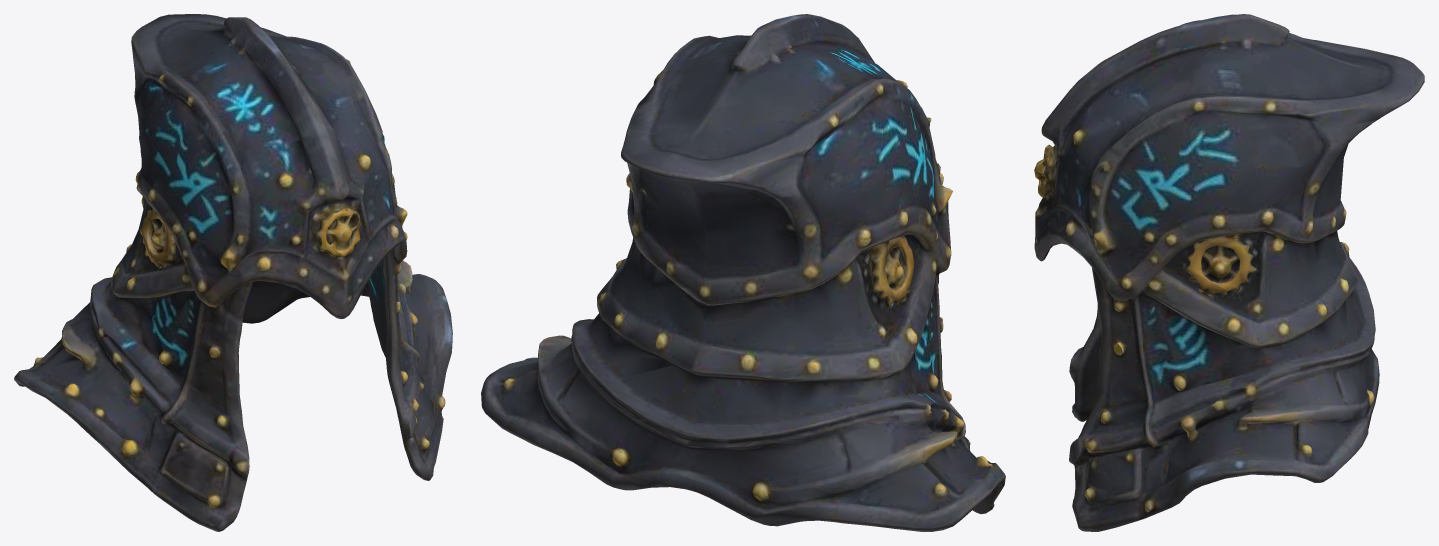
Rendered from artifice-elmo.glb.
3 renders of one model, left to right at view 1: azimuth 30°, elevation 25°; view 2: azimuth 150°, elevation 25°; view 3: azimuth 270°, elevation 25°, orthographic. The views are drawn at different scales.
Parts seen in each view (by area): view 1: tripo_node_33bcd201-bd58-4ee7-9f5b-8f406ac6eeaf; view 2: tripo_node_33bcd201-bd58-4ee7-9f5b-8f406ac6eeaf; view 3: tripo_node_33bcd201-bd58-4ee7-9f5b-8f406ac6eeaf.
Part boxes in pixels (bbox=[...]): tripo_node_33bcd201-bd58-4ee7-9f5b-8f406ac6eeaf: bbox=[14, 14, 452, 531]; tripo_node_33bcd201-bd58-4ee7-9f5b-8f406ac6eeaf: bbox=[481, 14, 1005, 531]; tripo_node_33bcd201-bd58-4ee7-9f5b-8f406ac6eeaf: bbox=[1034, 14, 1424, 531].
Size of the model in its own units: 0.9757 by 0.9726 by 0.7462.
Materials: 1 (1 with a texture image).
